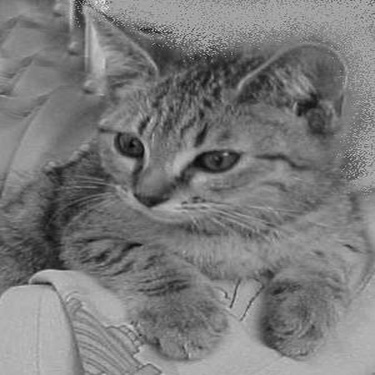cat: (9, 7, 362, 362)
